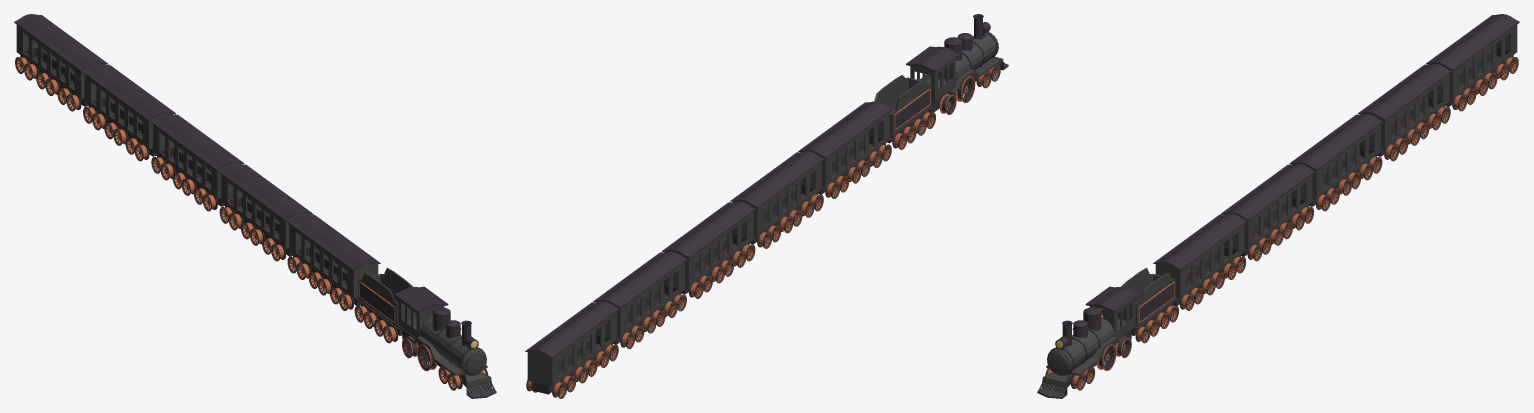
The model's file is traain.fbx.
The picture shows the model from 3 angles, left to right: view 1: azimuth 30°, elevation 25°; view 2: azimuth 150°, elevation 25°; view 3: azimuth 330°, elevation 25°; orthographic projection.
Parts seen in each view (by area): view 1: base.004, base.006, base.005, base.003, base.007, base.002, base.001, wheel.007, wheel.005, wheel.008, wheel.006, wheel.004 (+5 smaller); view 2: base.007, base.005, base.003, base.006, base.004, base.002, wheel.008, wheel.005, wheel.006, wheel.004, wheel.007, base.001 (+4 smaller); view 3: base.004, base.006, base.005, base.003, base.007, base.002, base.001, wheel.005, wheel.006, wheel.004, wheel.007, wheel.008 (+5 smaller).
Part boxes in pixels (bbox=[...]): base.004: bbox=[286, 213, 380, 305]; base.006: bbox=[82, 64, 175, 156]; base.005: bbox=[150, 114, 244, 206]; base.003: bbox=[219, 164, 312, 256]; base.007: bbox=[14, 14, 107, 106]; base.002: bbox=[355, 267, 416, 335]; base.001: bbox=[419, 318, 486, 375]; wheel.007: bbox=[83, 100, 149, 161]; wheel.005: bbox=[219, 200, 285, 261]; wheel.008: bbox=[15, 51, 81, 111]; wheel.006: bbox=[151, 150, 217, 211]; wheel.004: bbox=[287, 250, 353, 310]; base.007: bbox=[525, 301, 619, 394]; base.005: bbox=[662, 201, 755, 294]; base.003: bbox=[730, 151, 824, 244]; base.006: bbox=[593, 251, 687, 344]; base.004: bbox=[798, 101, 892, 194]; base.002: bbox=[874, 75, 933, 143]; wheel.008: bbox=[526, 338, 618, 398]; wheel.005: bbox=[757, 188, 823, 248]; wheel.006: bbox=[688, 238, 755, 298]; wheel.004: bbox=[825, 138, 891, 198]; wheel.007: bbox=[620, 288, 686, 348]; base.001: bbox=[956, 33, 998, 80]; base.004: bbox=[1153, 213, 1247, 305]; base.006: bbox=[1358, 64, 1451, 156]; base.005: bbox=[1289, 114, 1383, 206]; base.003: bbox=[1221, 164, 1314, 256]; base.007: bbox=[1426, 14, 1519, 106]; base.002: bbox=[1117, 267, 1178, 335]; base.001: bbox=[1047, 318, 1114, 375]; wheel.005: bbox=[1247, 200, 1313, 261]; wheel.006: bbox=[1316, 150, 1382, 211]; wheel.004: bbox=[1179, 250, 1246, 310]; wheel.007: bbox=[1384, 100, 1450, 161]; wheel.008: bbox=[1452, 51, 1518, 111].
Bounding box in the file's own units: 266 × 482 × 6410.
